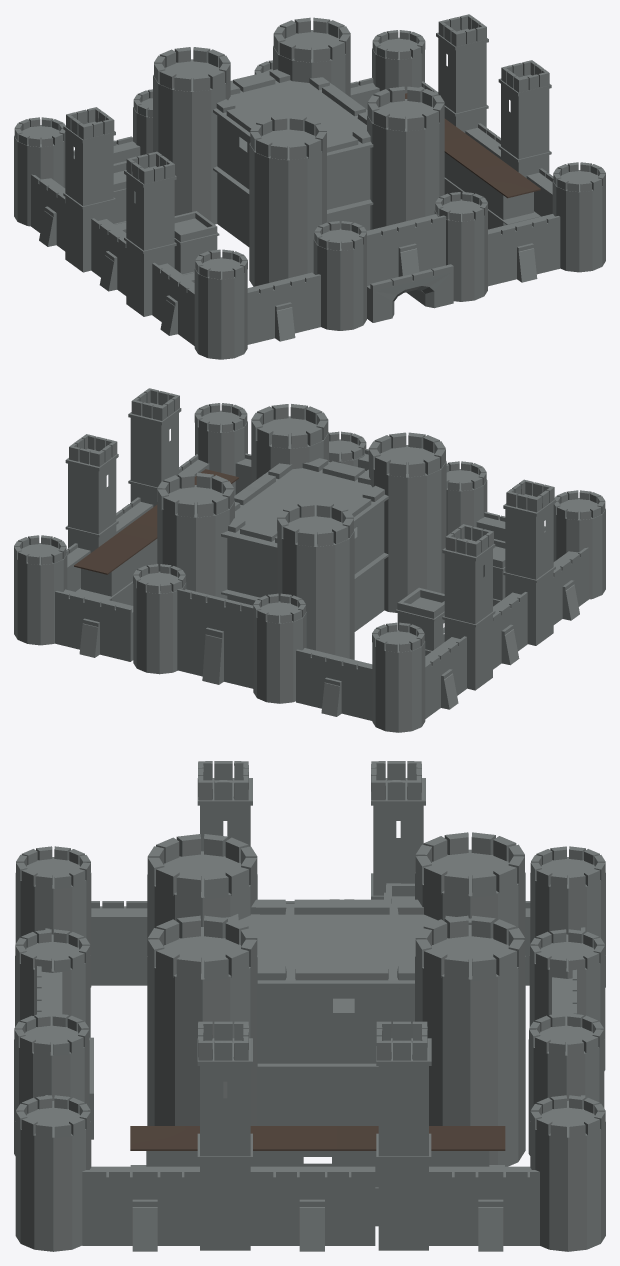
Rendered from fortress2.glb.
3 renders of one model, top to bottom at view 1: azimuth 30°, elevation 25°; view 2: azimuth 150°, elevation 25°; view 3: azimuth 270°, elevation 25°, orthographic. The views are drawn at different scales.
Visible parts, largest first — view 1: Fortress; view 2: Fortress; view 3: Fortress.
Part boxes in pixels (x1,y1,x2,y2): Fortress: (14,14,605,359); Fortress: (14,388,605,732); Fortress: (14,761,605,1251).
Size of the model in its own units: 0.0575 by 0.0202 by 0.0507.
1 material, 1 textured.
